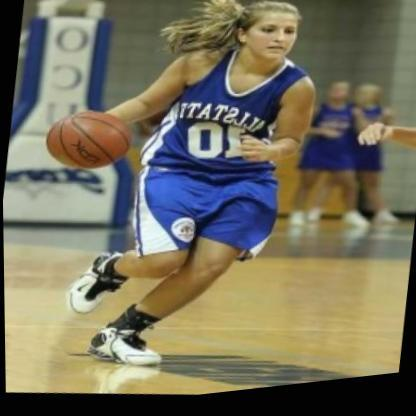basketball: (38, 98, 140, 183)
